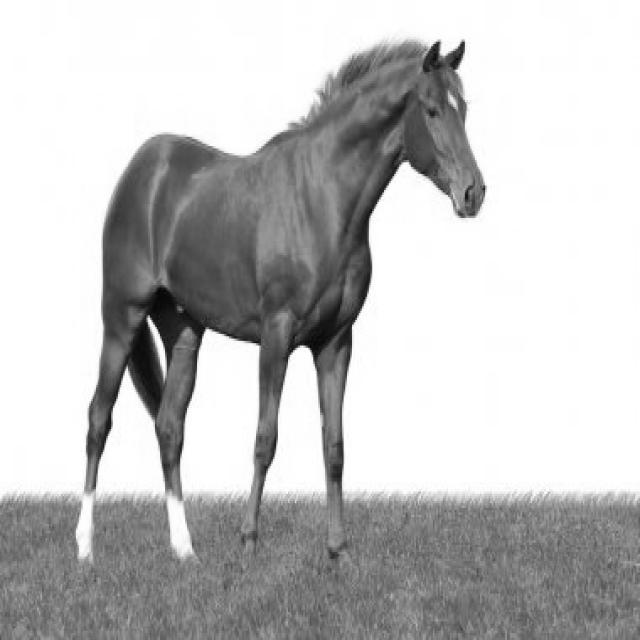Animal: (66, 31, 488, 577)
